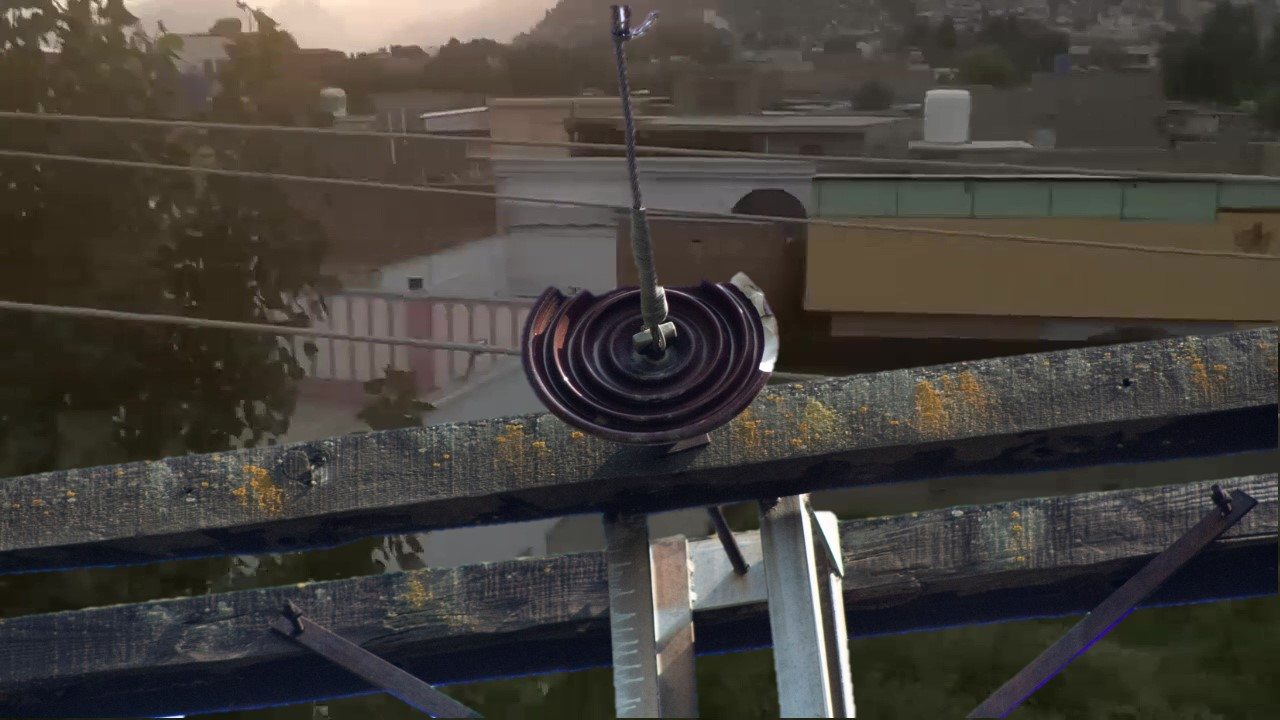defect_disc: (515, 259, 793, 449)
